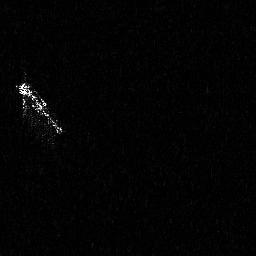ship: (14, 81, 64, 138)
